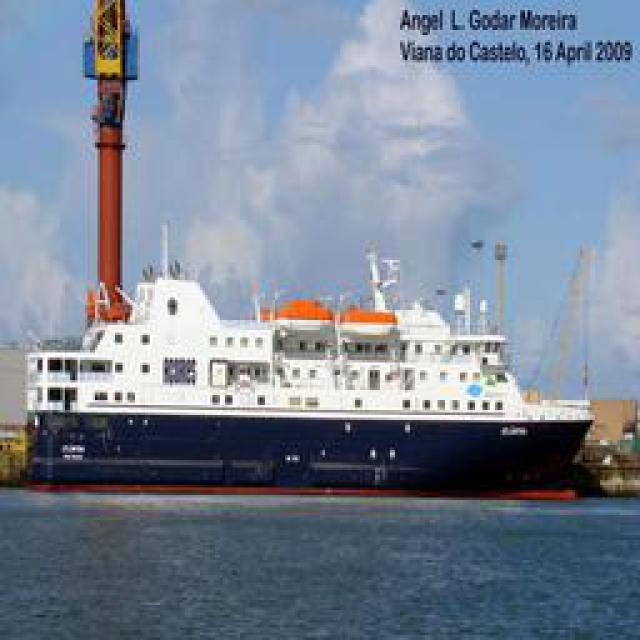Ship: (20, 215, 593, 488)
